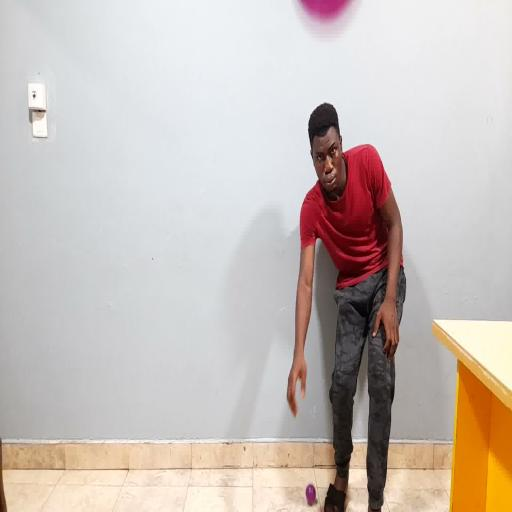plastic-ball: (289, 0, 368, 51)
